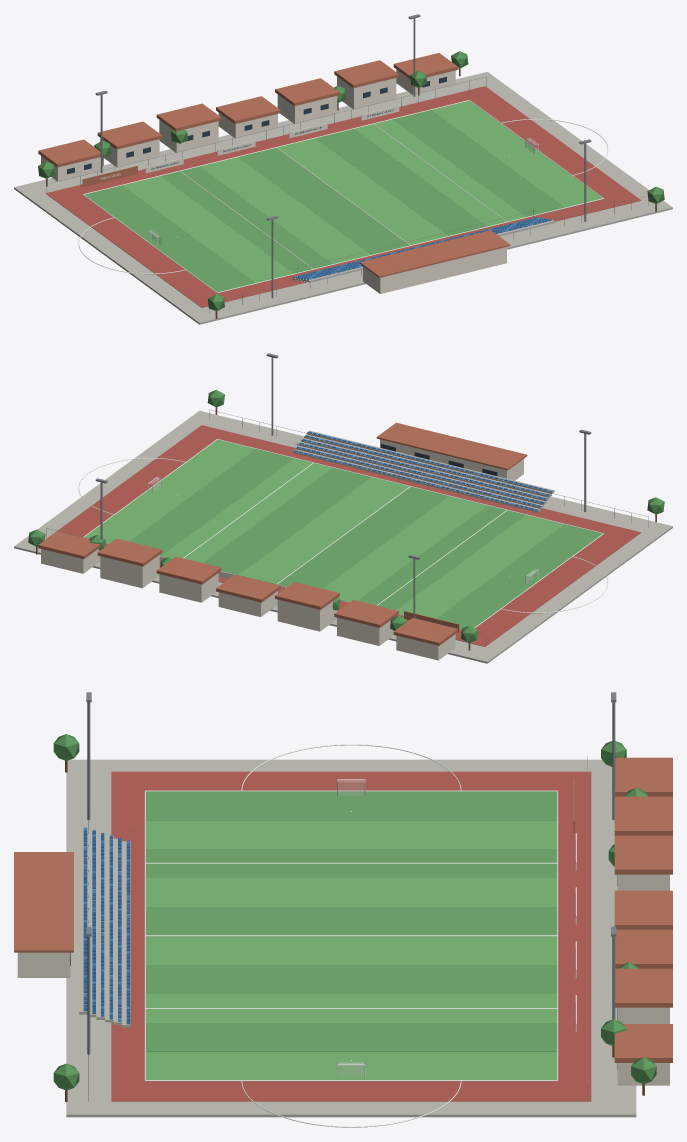
File: pablo_negre.glb
3 views of the same model, one above another, from view 1: azimuth 30°, elevation 25°; view 2: azimuth 150°, elevation 25°; view 3: azimuth 270°, elevation 25° (orthographic). The views are drawn at different scales.
Parts seen in each view (by area): view 1: Base de hormigon, Pista perimetral roja, Franja de cesped 8, Franja de cesped 7, Franja de cesped 9, Franja de cesped 2, Franja de cesped 4, Franja de cesped 5, Franja de cesped 3, Franja de cesped 10, Franja de cesped 1, Franja de cesped 6 (+19 smaller); view 2: Pista perimetral roja, Base de hormigon, Franja de cesped 7, Franja de cesped 6, Franja de cesped 8, Franja de cesped 2, Franja de cesped 3, Franja de cesped 4, Franja de cesped 10, Franja de cesped 1, Franja de cesped 5, Franja de cesped 9 (+23 smaller); view 3: Pista perimetral roja, Base de hormigon, Franja de cesped 1, Franja de cesped 2, Franja de cesped 3, Franja de cesped 4, Franja de cesped 5, Franja de cesped 6, Franja de cesped 7, Franja de cesped 9, Franja de cesped 8, Franja de cesped 10 (+22 smaller).
Part boxes in pixels (x1=…): Base de hormigon: x1=14, y1=71, x2=672, y2=324; Pista perimetral roja: x1=45, y1=86, x2=641, y2=307; Franja de cesped 8: x1=354, y1=119, x2=525, y2=226; Franja de cesped 7: x1=315, y1=129, x2=486, y2=235; Franja de cesped 9: x1=393, y1=110, x2=564, y2=216; Franja de cesped 2: x1=122, y1=176, x2=293, y2=282; Franja de cesped 4: x1=199, y1=157, x2=370, y2=263; Franja de cesped 5: x1=238, y1=148, x2=409, y2=254; Franja de cesped 3: x1=161, y1=166, x2=332, y2=273; Franja de cesped 10: x1=431, y1=100, x2=602, y2=207; Franja de cesped 1: x1=84, y1=185, x2=254, y2=292; Franja de cesped 6: x1=277, y1=138, x2=448, y2=244; Pista perimetral roja: x1=46, y1=425, x2=641, y2=646; Base de hormigon: x1=14, y1=410, x2=672, y2=663; Franja de cesped 7: x1=203, y1=468, x2=371, y2=574; Franja de cesped 6: x1=238, y1=477, x2=409, y2=583; Franja de cesped 8: x1=161, y1=458, x2=332, y2=562; Franja de cesped 2: x1=396, y1=515, x2=564, y2=618; Franja de cesped 3: x1=358, y1=505, x2=525, y2=609; Franja de cesped 4: x1=323, y1=496, x2=487, y2=601; Franja de cesped 10: x1=84, y1=439, x2=255, y2=543; Franja de cesped 1: x1=436, y1=524, x2=602, y2=629; Franja de cesped 5: x1=277, y1=487, x2=448, y2=588; Franja de cesped 9: x1=129, y1=449, x2=293, y2=555; Pista perimetral roja: x1=111, y1=771, x2=591, y2=1101; Base de hormigon: x1=66, y1=759, x2=636, y2=1117; Franja de cesped 1: x1=146, y1=791, x2=556, y2=820; Franja de cesped 2: x1=146, y1=820, x2=556, y2=848; Franja de cesped 3: x1=146, y1=849, x2=556, y2=877; Franja de cesped 4: x1=146, y1=878, x2=556, y2=906; Franja de cesped 5: x1=146, y1=907, x2=556, y2=935; Franja de cesped 6: x1=146, y1=936, x2=556, y2=964; Franja de cesped 7: x1=146, y1=965, x2=556, y2=993; Franja de cesped 9: x1=146, y1=1023, x2=556, y2=1051; Franja de cesped 8: x1=146, y1=994, x2=556, y2=1022; Franja de cesped 10: x1=146, y1=1052, x2=556, y2=1079.
Size of the model in its own units: 121 by 18.62 by 87.9.
